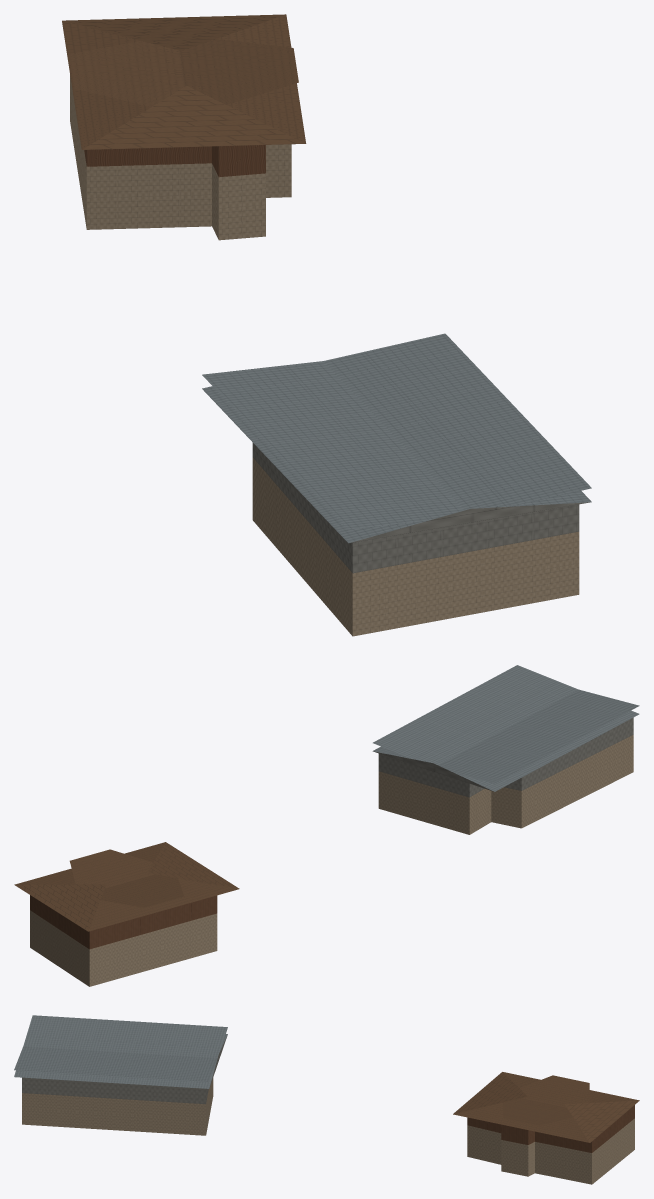
File: bld_c3_-7_598.gltf
The picture shows the model from 3 angles, top to bottom: view 1: azimuth 30°, elevation 25°; view 2: azimuth 150°, elevation 25°; view 3: azimuth 270°, elevation 25°; orthographic projection. The views are drawn at different scales.
Visible parts, largest first — view 1: bld_c3_-7_598; view 2: bld_c3_-7_598; view 3: bld_c3_-7_598.
Boxes of the visible parts, left/top/right/bottom form: bld_c3_-7_598: left=62, top=14, right=591, bottom=636; bld_c3_-7_598: left=14, top=665, right=639, bottom=986; bld_c3_-7_598: left=14, top=1015, right=639, bottom=1184.
Bounding box in the file's own units: 37.29 × 8 × 81.62.
Materials: 6 (6 with a texture image).
